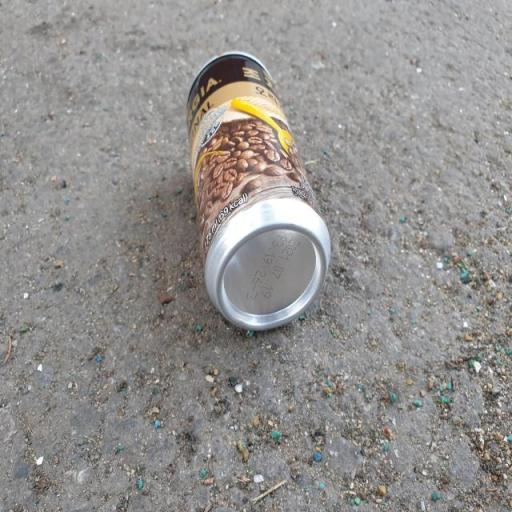metal: (172, 29, 342, 374)
